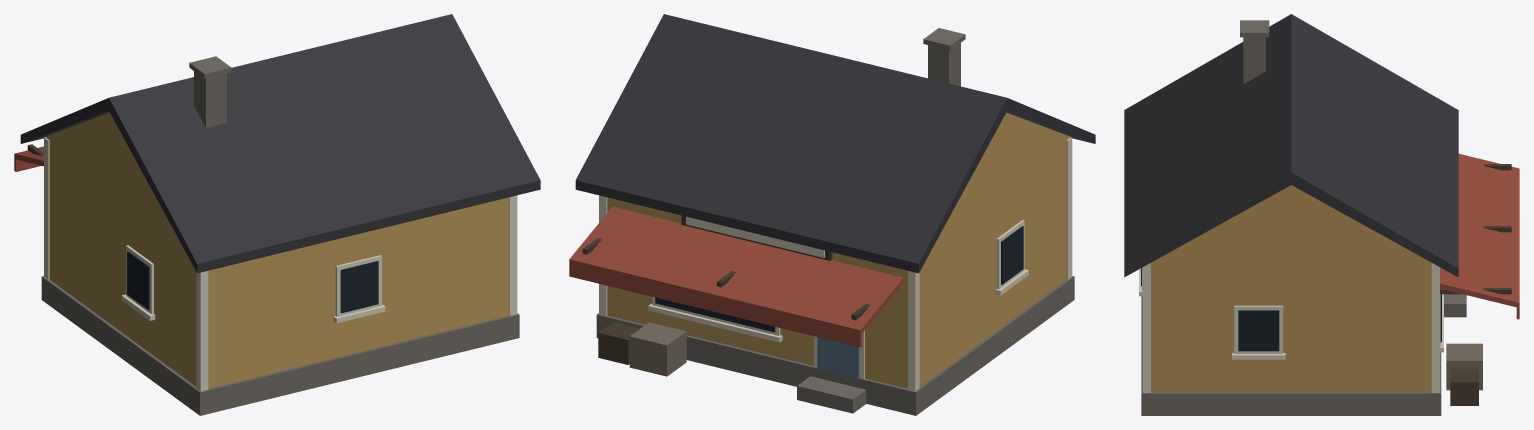
The model's file is shop.glb.
The picture shows the model from 3 angles, left to right: view 1: azimuth 30°, elevation 25°; view 2: azimuth 150°, elevation 25°; view 3: azimuth 270°, elevation 25°; orthographic projection. The views are drawn at different scales.
Parts seen in each view (by area): view 1: shop; view 2: shop; view 3: shop.
Boxes of the visible parts, box(x1,y1,x2,y2) form: shop: box(14, 14, 540, 415); shop: box(569, 14, 1095, 415); shop: box(1124, 14, 1519, 415).
Bounding box in the file's own units: 4.6 × 3.71 × 4.85.
